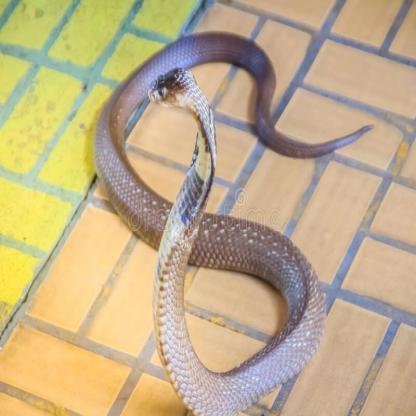Snake: (80, 23, 327, 416)
